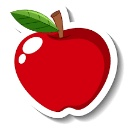apple: (12, 27, 112, 110)
